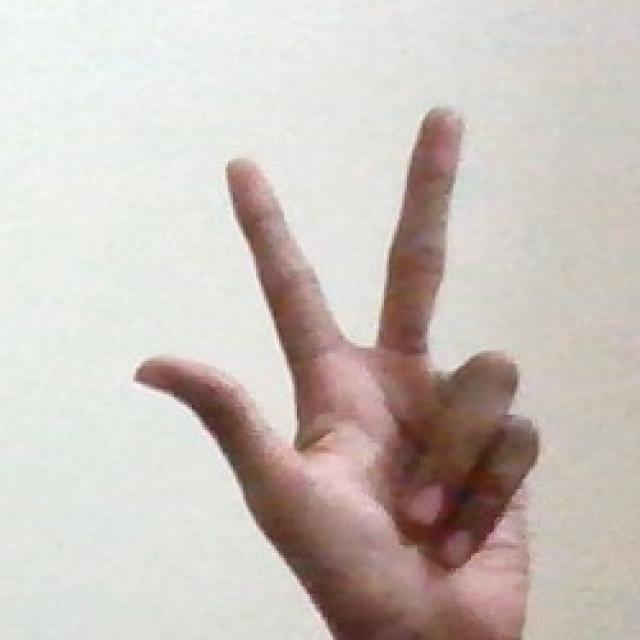Numeric-3: (132, 105, 542, 631)
